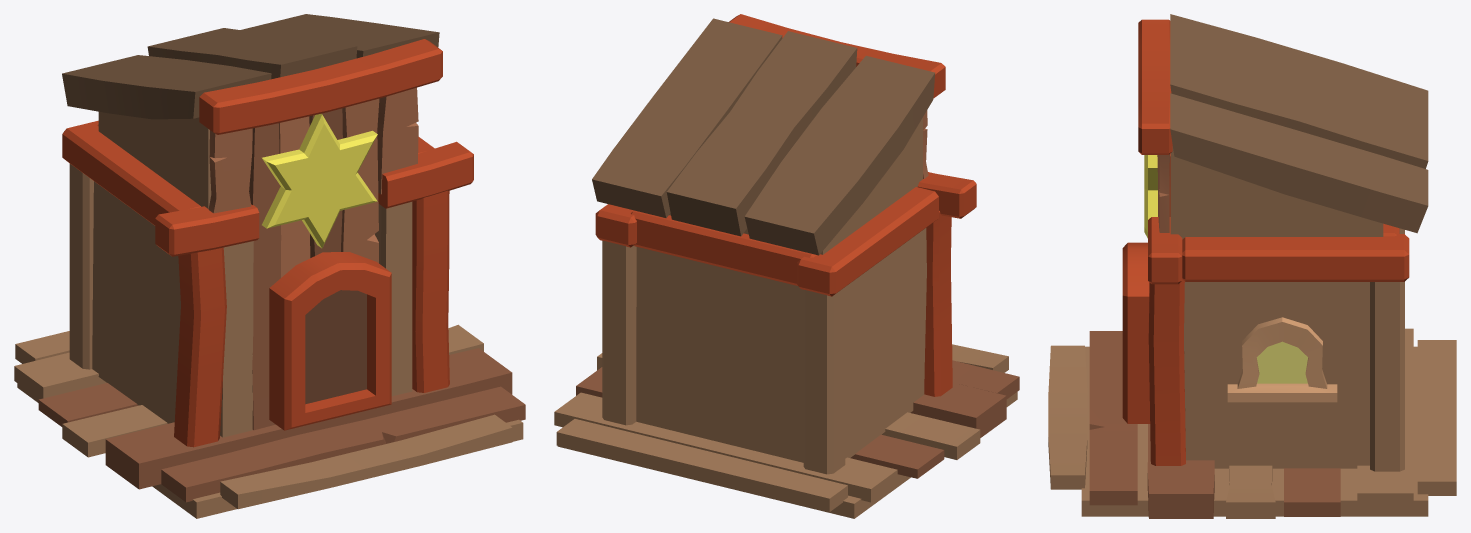
Rendered from Sheriff_house (2).fbx.
The picture shows the model from 3 angles, left to right: view 1: azimuth 30°, elevation 25°; view 2: azimuth 150°, elevation 25°; view 3: azimuth 270°, elevation 25°; orthographic projection. The views are drawn at different scales.
Parts seen in each view (by area): view 1: Cube.013; view 2: Cube.013; view 3: Cube.013.
Part boxes in pixels (x1=…): Cube.013: x1=14, y1=14, x2=525, y2=518; Cube.013: x1=554, y1=14, x2=1019, y2=518; Cube.013: x1=1048, y1=14, x2=1456, y2=518.
Size of the model in its own units: 554 by 520 by 512.
